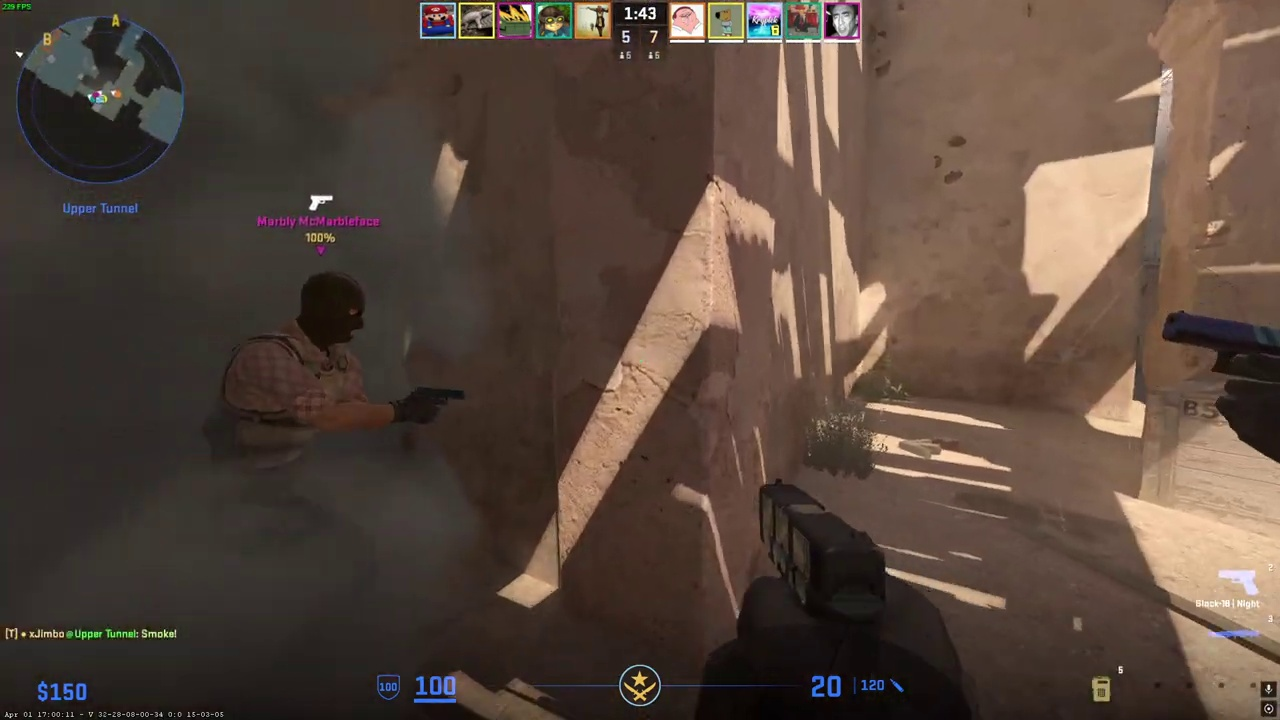Terrorist: (207, 270, 403, 701)
